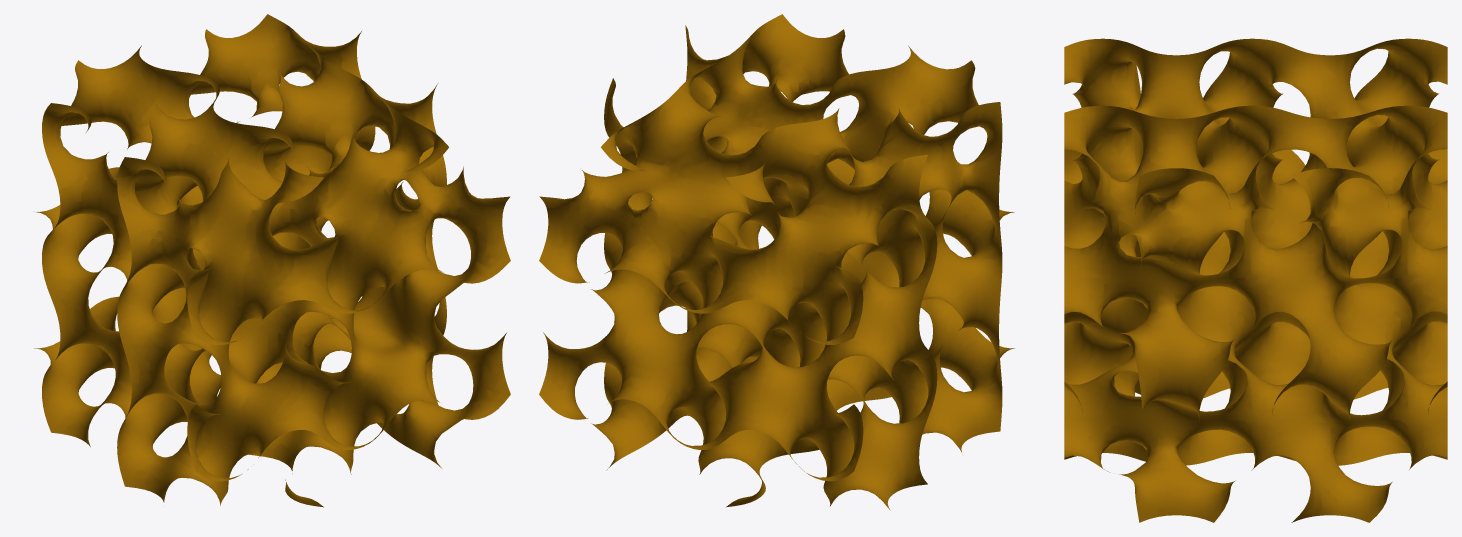
File: unit_period2.glb
3 views of the same model, side by side, from view 1: azimuth 30°, elevation 25°; view 2: azimuth 150°, elevation 25°; view 3: azimuth 270°, elevation 25° (orthographic). The views are drawn at different scales.
Visible parts, largest first — view 1: world; view 2: world; view 3: world.
Part boxes in pixels (<box>): world: <box>34,14,510,507</box>; world: <box>539,14,1014,510</box>; world: <box>1064,38,1447,522</box>.
Bounding box in the file's own units: 49 × 49 × 49.
